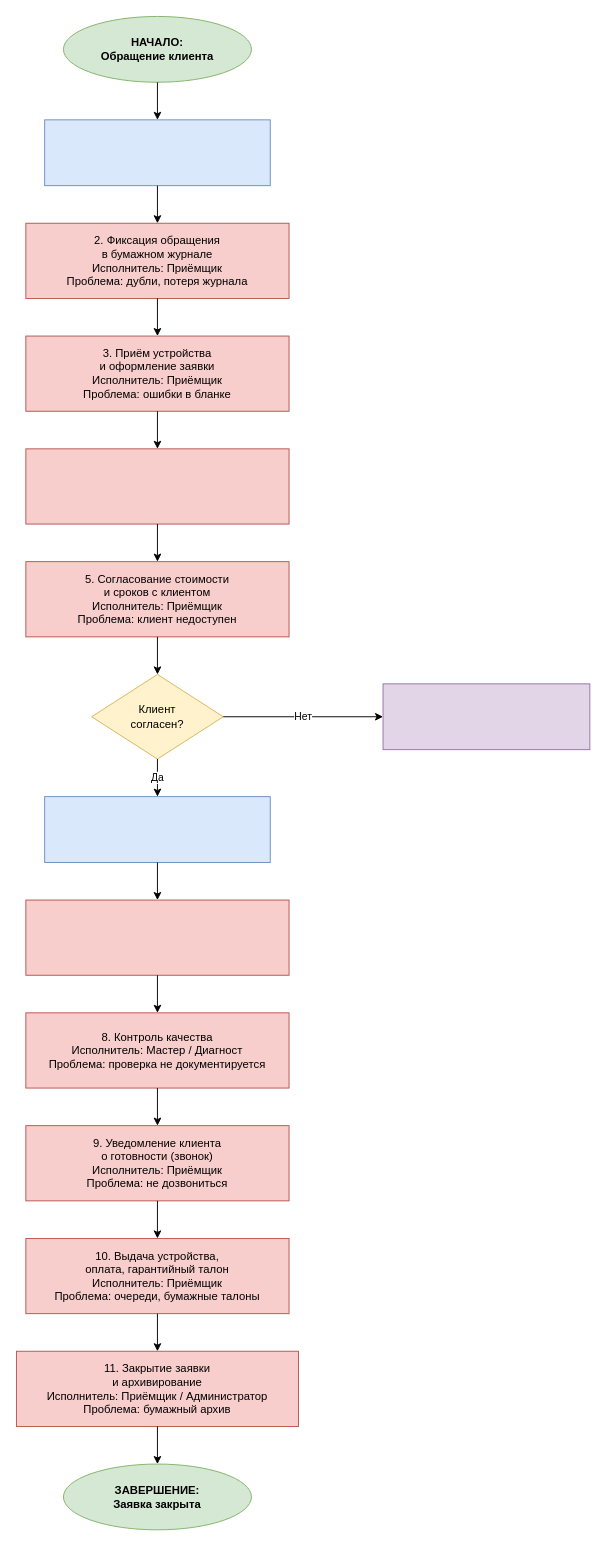
Some shapes in this 606 by 1546 pixel diagram are drawn without their labels. The box of each missing label's shape, as (x1, y1, x2, y2) in pixels:
1. Обращение клиента с описанием неисправности Исполнитель: Клиент: (44, 119, 270, 186)
4. Первичная диагностика Исполнитель: Диагност Проблема: результаты на бумаге: (25, 448, 289, 524)
6. Передача устройства в ремонт Исполнитель: Приёмщик / Мастер: (44, 796, 270, 862)
7. Выполнение ремонта Исполнитель: Мастер Проблема: ручной учёт запчастей: (25, 899, 289, 975)
Отказ клиента: возврат устройства, закрытие заявки: (382, 683, 590, 750)
